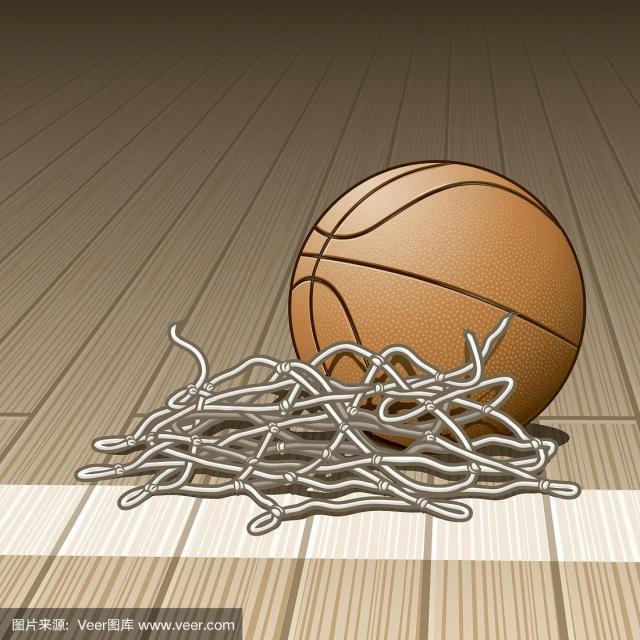rim: (290, 160, 586, 440)
